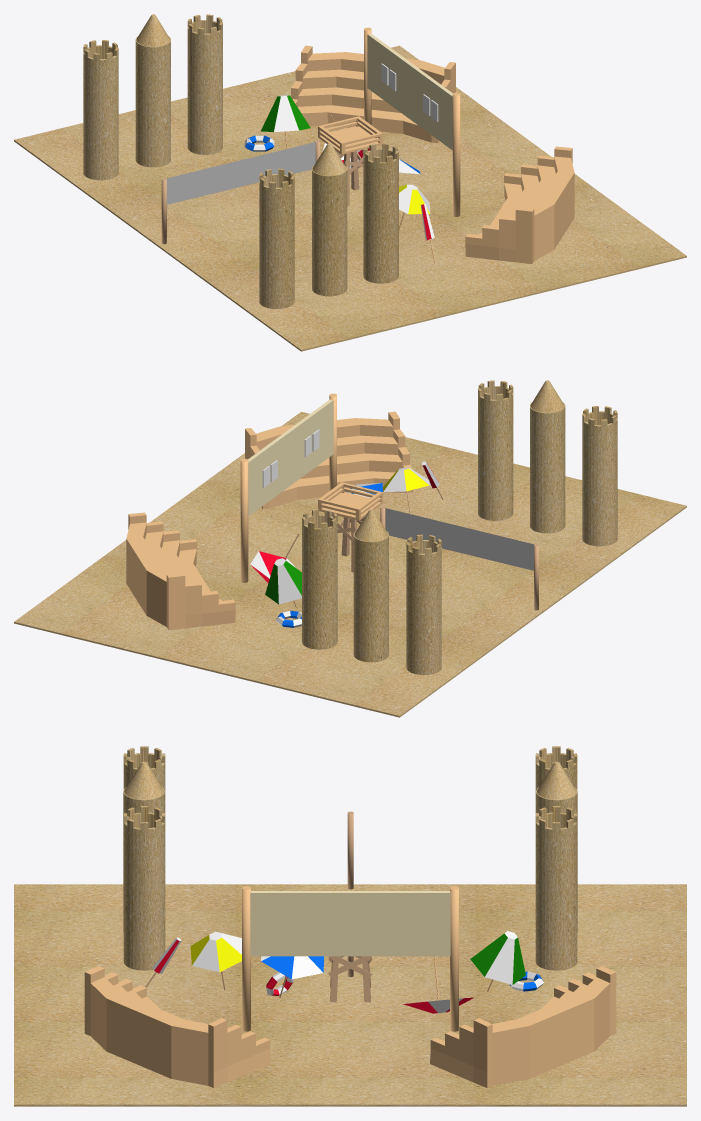
The model's file is Beach_Ground.fbx.
3 renders of one model, top to bottom at view 1: azimuth 30°, elevation 25°; view 2: azimuth 150°, elevation 25°; view 3: azimuth 270°, elevation 25°, orthographic. The views are drawn at different scales.
Parts seen in each view (by area): view 1: SandBeach, Net; view 2: SandBeach, Net; view 3: SandBeach.
Boxes of the visible parts, x1,y1,x2,y2 form: SandBeach: (14,14,686,351); Net: (166,142,315,204); SandBeach: (14,380,686,717); Net: (385,508,533,570); SandBeach: (14,746,686,1106).
Bounding box in the file's own units: 2510 × 910 × 3237.
